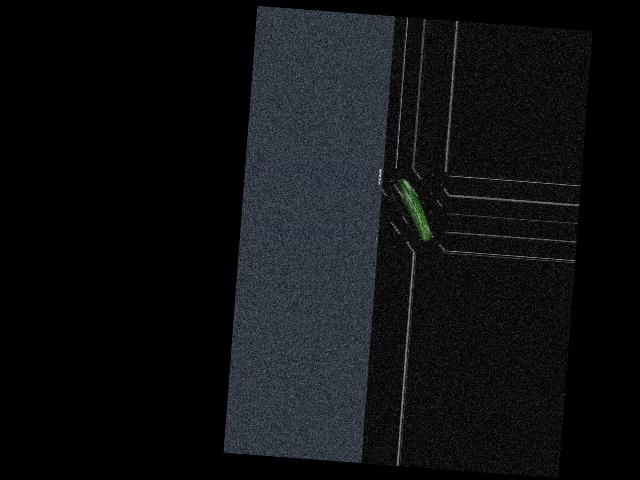cucumber: (391, 178, 434, 242)
